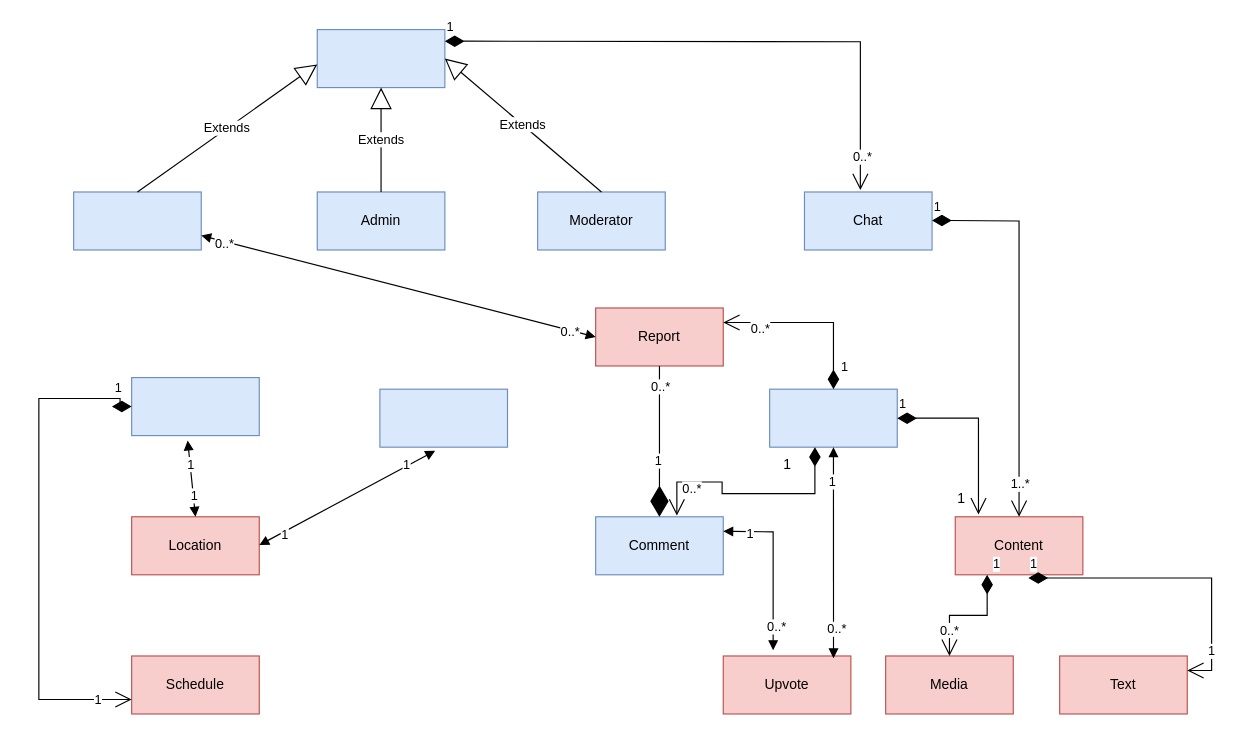
Some shapes in this 1252 by 740 pixel diagram are drawn without their labels. Each missing label, with the box of its shape:
Blogs: (768, 388, 897, 447)
Events: (130, 376, 259, 436)
Housing: (379, 388, 507, 447)
Student: (72, 191, 201, 250)
User: (316, 28, 445, 88)
